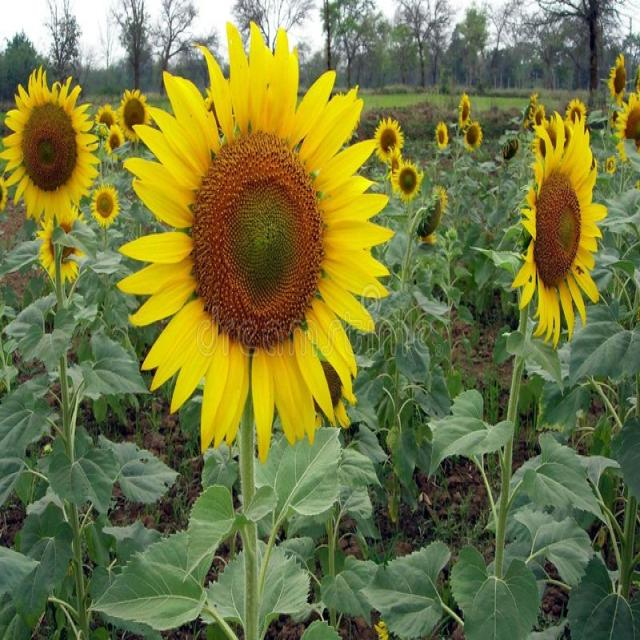sunflower: (128, 31, 394, 448), (523, 109, 611, 363), (2, 61, 96, 240), (40, 217, 89, 289), (372, 115, 413, 177), (414, 181, 450, 247), (118, 88, 152, 143), (90, 172, 121, 226), (390, 161, 428, 202), (608, 47, 630, 106), (104, 122, 127, 162), (434, 116, 453, 158), (462, 120, 484, 154), (455, 84, 470, 125)
